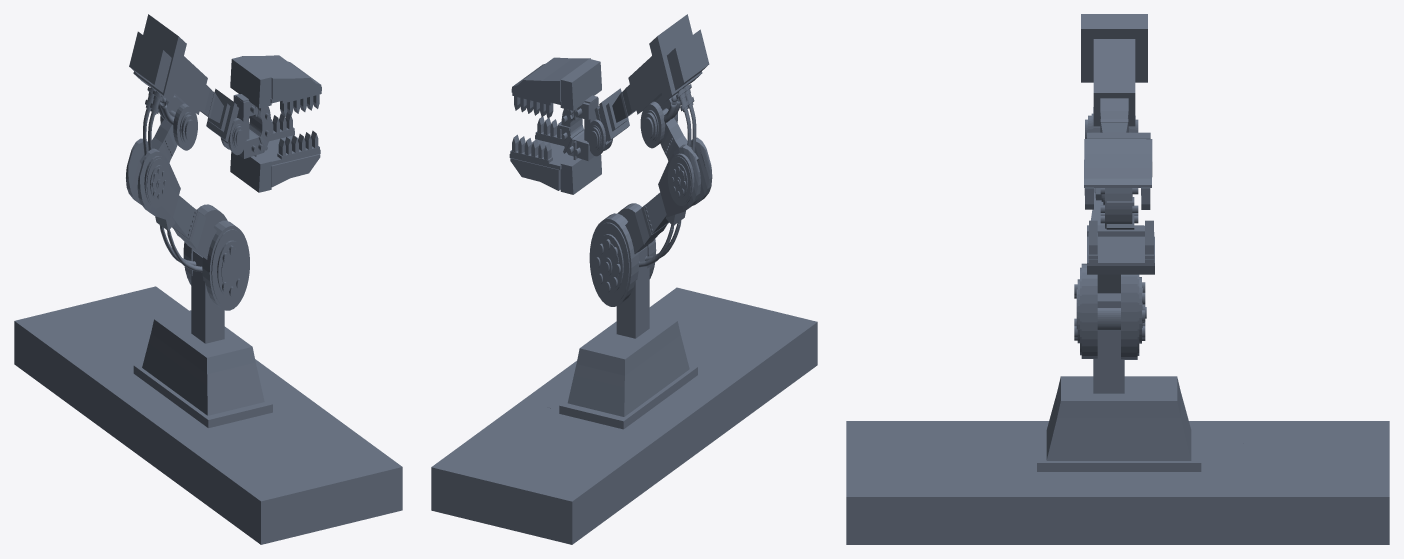
Rendered from robot_arm2_usable.obj.
3 renders of one model, left to right at view 1: azimuth 30°, elevation 25°; view 2: azimuth 150°, elevation 25°; view 3: azimuth 270°, elevation 25°, orthographic. The views are drawn at different scales.
Visible parts, largest first — view 1: Cube_080_Cube_026, Cylinder_Cylinder_035, Cube_025; view 2: Cube_080_Cube_026, Cylinder_Cylinder_035, Cube_025; view 3: Cube_080_Cube_026, Cylinder_Cylinder_035, Cube_025.
Boxes of the visible parts, <box> form: Cube_080_Cube_026: <box>14,286,402,544</box>; Cylinder_Cylinder_035: <box>126,14,321,343</box>; Cube_025: <box>133,310,272,428</box>; Cube_080_Cube_026: <box>431,287,817,544</box>; Cylinder_Cylinder_035: <box>509,14,712,338</box>; Cube_025: <box>559,314,697,429</box>; Cube_080_Cube_026: <box>846,421,1389,544</box>; Cylinder_Cylinder_035: <box>1074,14,1154,393</box>; Cube_025: <box>1037,376,1201,471</box>.
Size of the model in its own units: 89.75 by 206 by 216.
